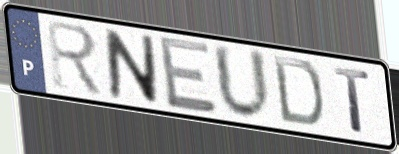D: (270, 53, 326, 130)
E: (156, 33, 220, 116)
N: (102, 27, 161, 108)
R: (43, 17, 107, 100)
T: (331, 64, 373, 137)
U: (210, 40, 274, 124)
